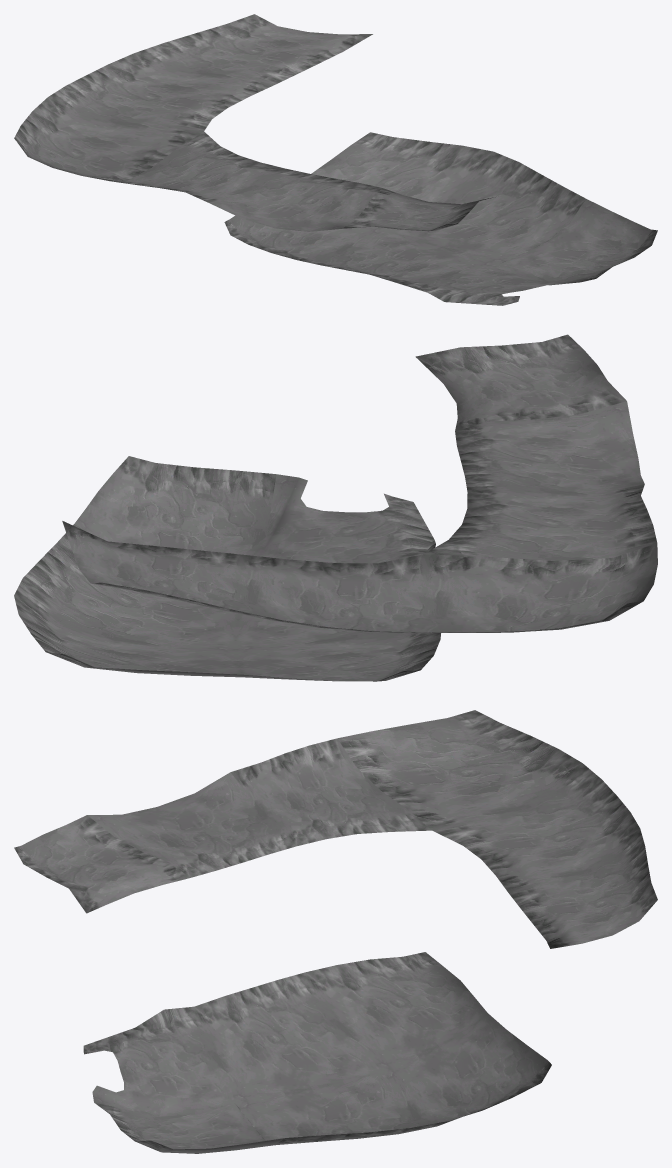
Rendered from SWORDLIGHT20_PS-AREA03-05TRANS_01.fbx.
The picture shows the model from 3 angles, top to bottom: view 1: azimuth 30°, elevation 25°; view 2: azimuth 150°, elevation 25°; view 3: azimuth 270°, elevation 25°; orthographic projection. The views are drawn at different scales.
Parts seen in each view (by area): view 1: SWORDLIGHT20_PS-AREA03-05TRANS_01; view 2: SWORDLIGHT20_PS-AREA03-05TRANS_01; view 3: SWORDLIGHT20_PS-AREA03-05TRANS_01.
Boxes of the visible parts, left/top/right/bottom form: SWORDLIGHT20_PS-AREA03-05TRANS_01: left=14, top=14, right=657, bottom=305; SWORDLIGHT20_PS-AREA03-05TRANS_01: left=14, top=334, right=657, bottom=681; SWORDLIGHT20_PS-AREA03-05TRANS_01: left=14, top=710, right=657, bottom=1153.
Size of the model in its own units: 260754 by 71700 by 239300.
6 materials, 6 textured.
